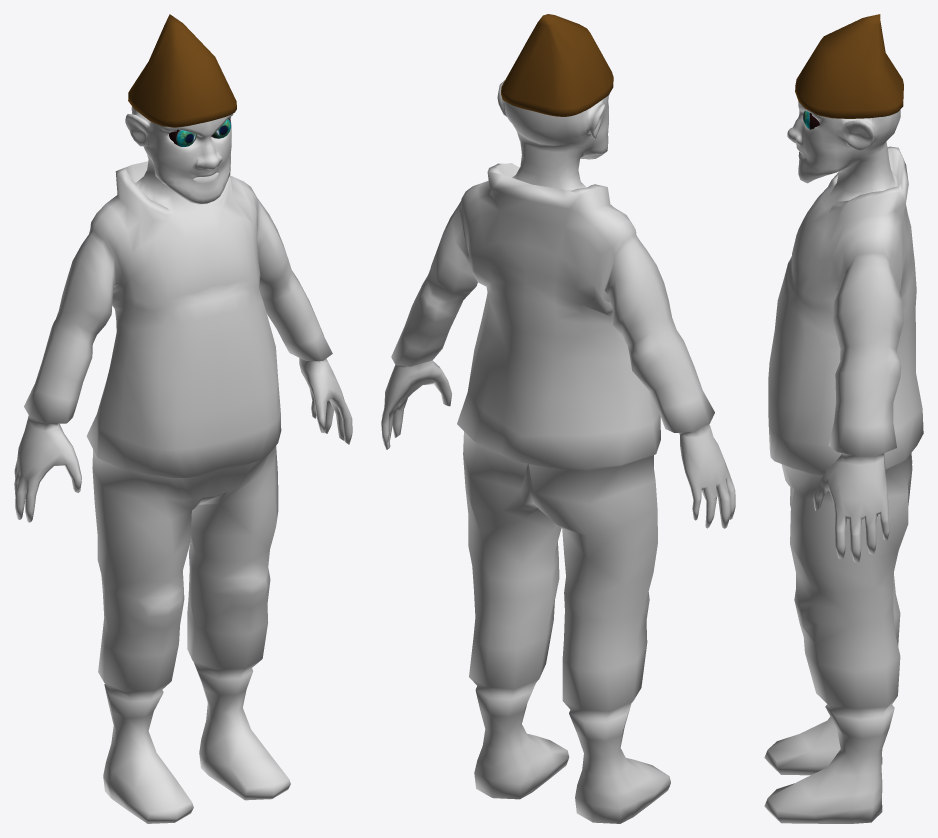
File: mesh_Othok.fbx
The picture shows the model from 3 angles, left to right: view 1: azimuth 30°, elevation 25°; view 2: azimuth 150°, elevation 25°; view 3: azimuth 270°, elevation 25°; orthographic projection. The views are drawn at different scales.
Visible parts, largest first — view 1: Cuerpo, Sombrero; view 2: Cuerpo, Sombrero; view 3: Cuerpo, Sombrero.
Part boxes in pixels (x1,y1,x2,y2): Cuerpo: (14, 106, 352, 823); Sombrero: (128, 14, 236, 127); Cuerpo: (381, 80, 735, 823); Sombrero: (501, 14, 613, 116); Cuerpo: (764, 101, 923, 823); Sombrero: (795, 14, 903, 118).
Bounding box in the file's own units: 729 × 1596 × 297.
Materials: 2 (1 with a texture image).
